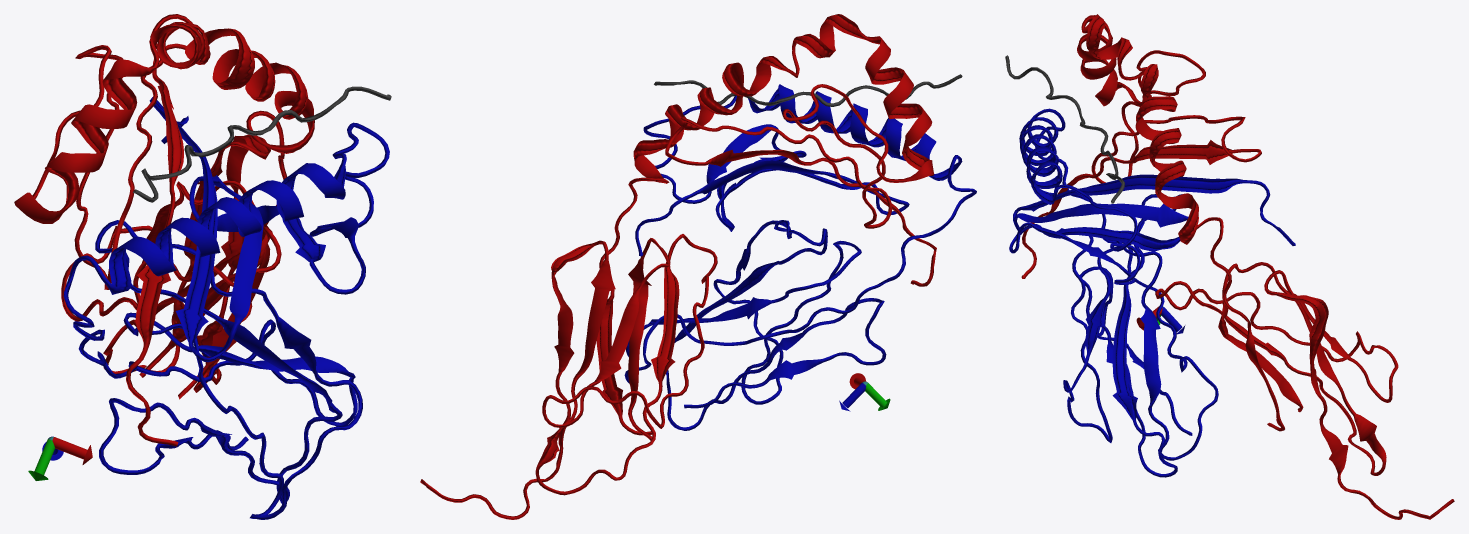
The model's file is 4x5wRez3.obj.
The picture shows the model from 3 angles, left to right: view 1: azimuth 30°, elevation 25°; view 2: azimuth 150°, elevation 25°; view 3: azimuth 270°, elevation 25°; orthographic projection. The views are drawn at different scales.
Parts seen in each view (by area): view 1: vmd_mol2_rep0, vmd_axes; view 2: vmd_mol2_rep0, vmd_axes; view 3: vmd_mol2_rep0.
Boxes of the visible parts, bbox=[...] form: vmd_mol2_rep0: bbox=[14, 14, 391, 519]; vmd_axes: bbox=[28, 436, 92, 480]; vmd_mol2_rep0: bbox=[420, 14, 976, 519]; vmd_axes: bbox=[839, 373, 890, 411]; vmd_mol2_rep0: bbox=[1005, 14, 1454, 519].
Bounding box in the file's own units: 2.98 × 3.57 × 3.47.
